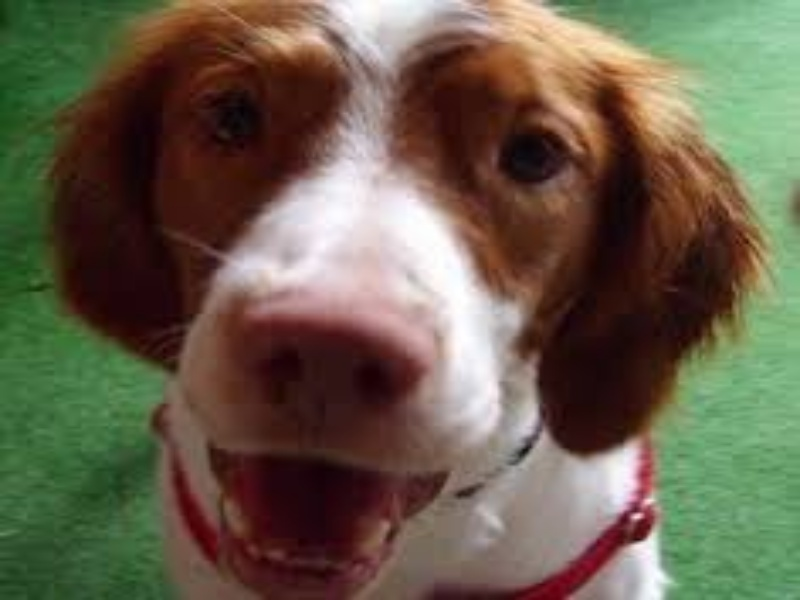dog: (23, 9, 748, 600)
